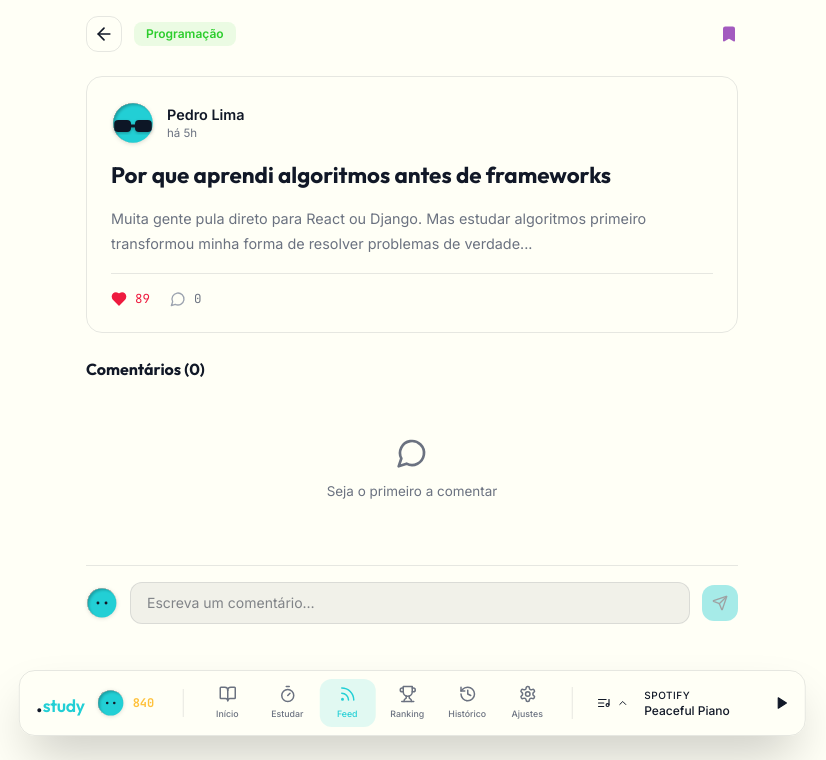
Feed › comentar e responder
Type "Muito bom!" into the field with placeholder "Escreva um comentário…" at (410, 603), box [130,582,690,624]
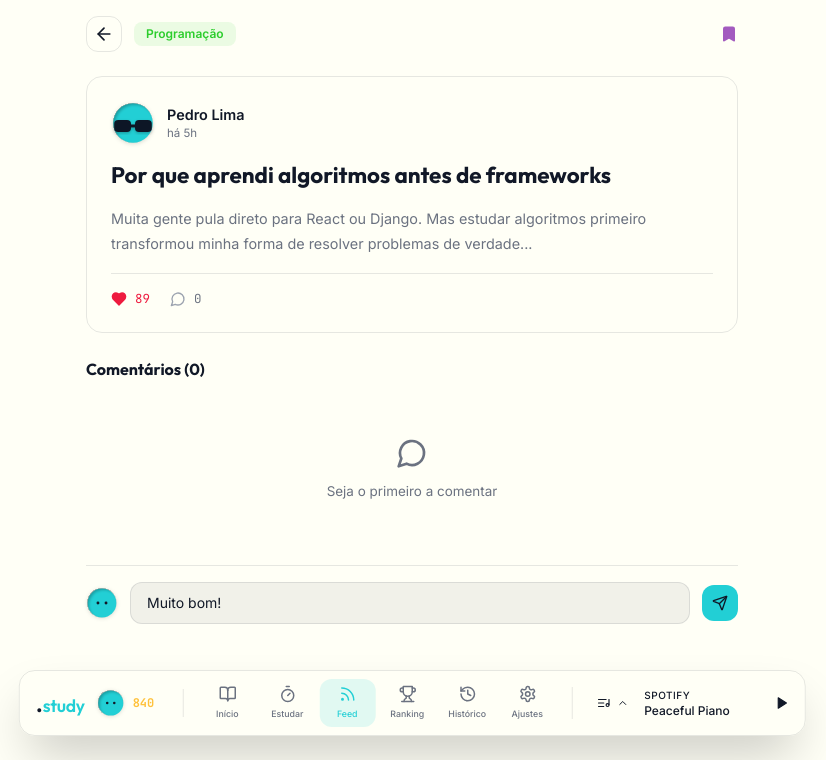
Click the button named "enviar" at (720, 603), box [702,585,738,621]
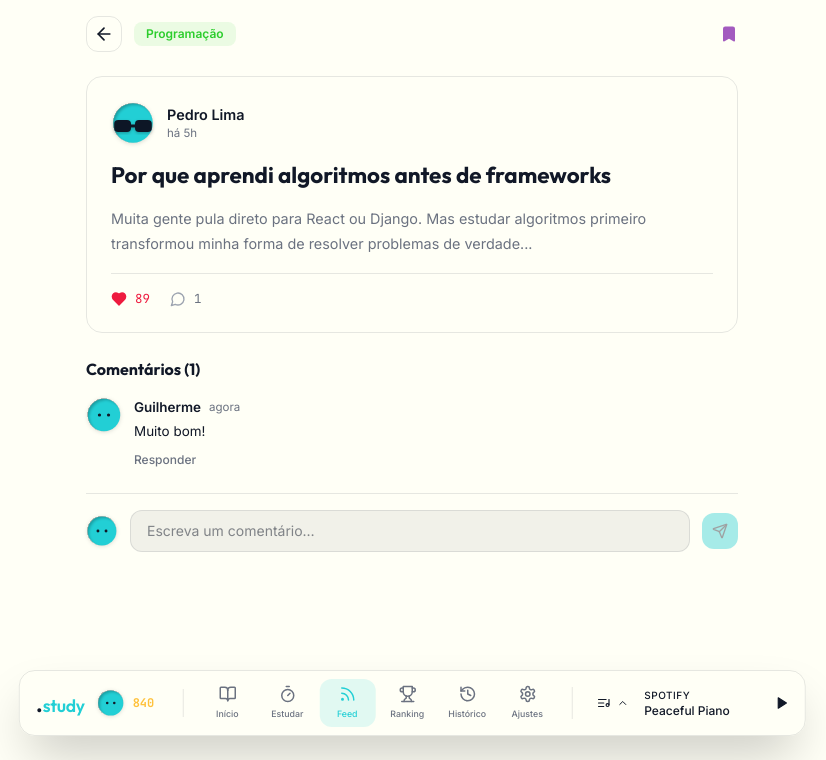
Now the text "Muito bom!" is shown, box [134,423,205,439]
